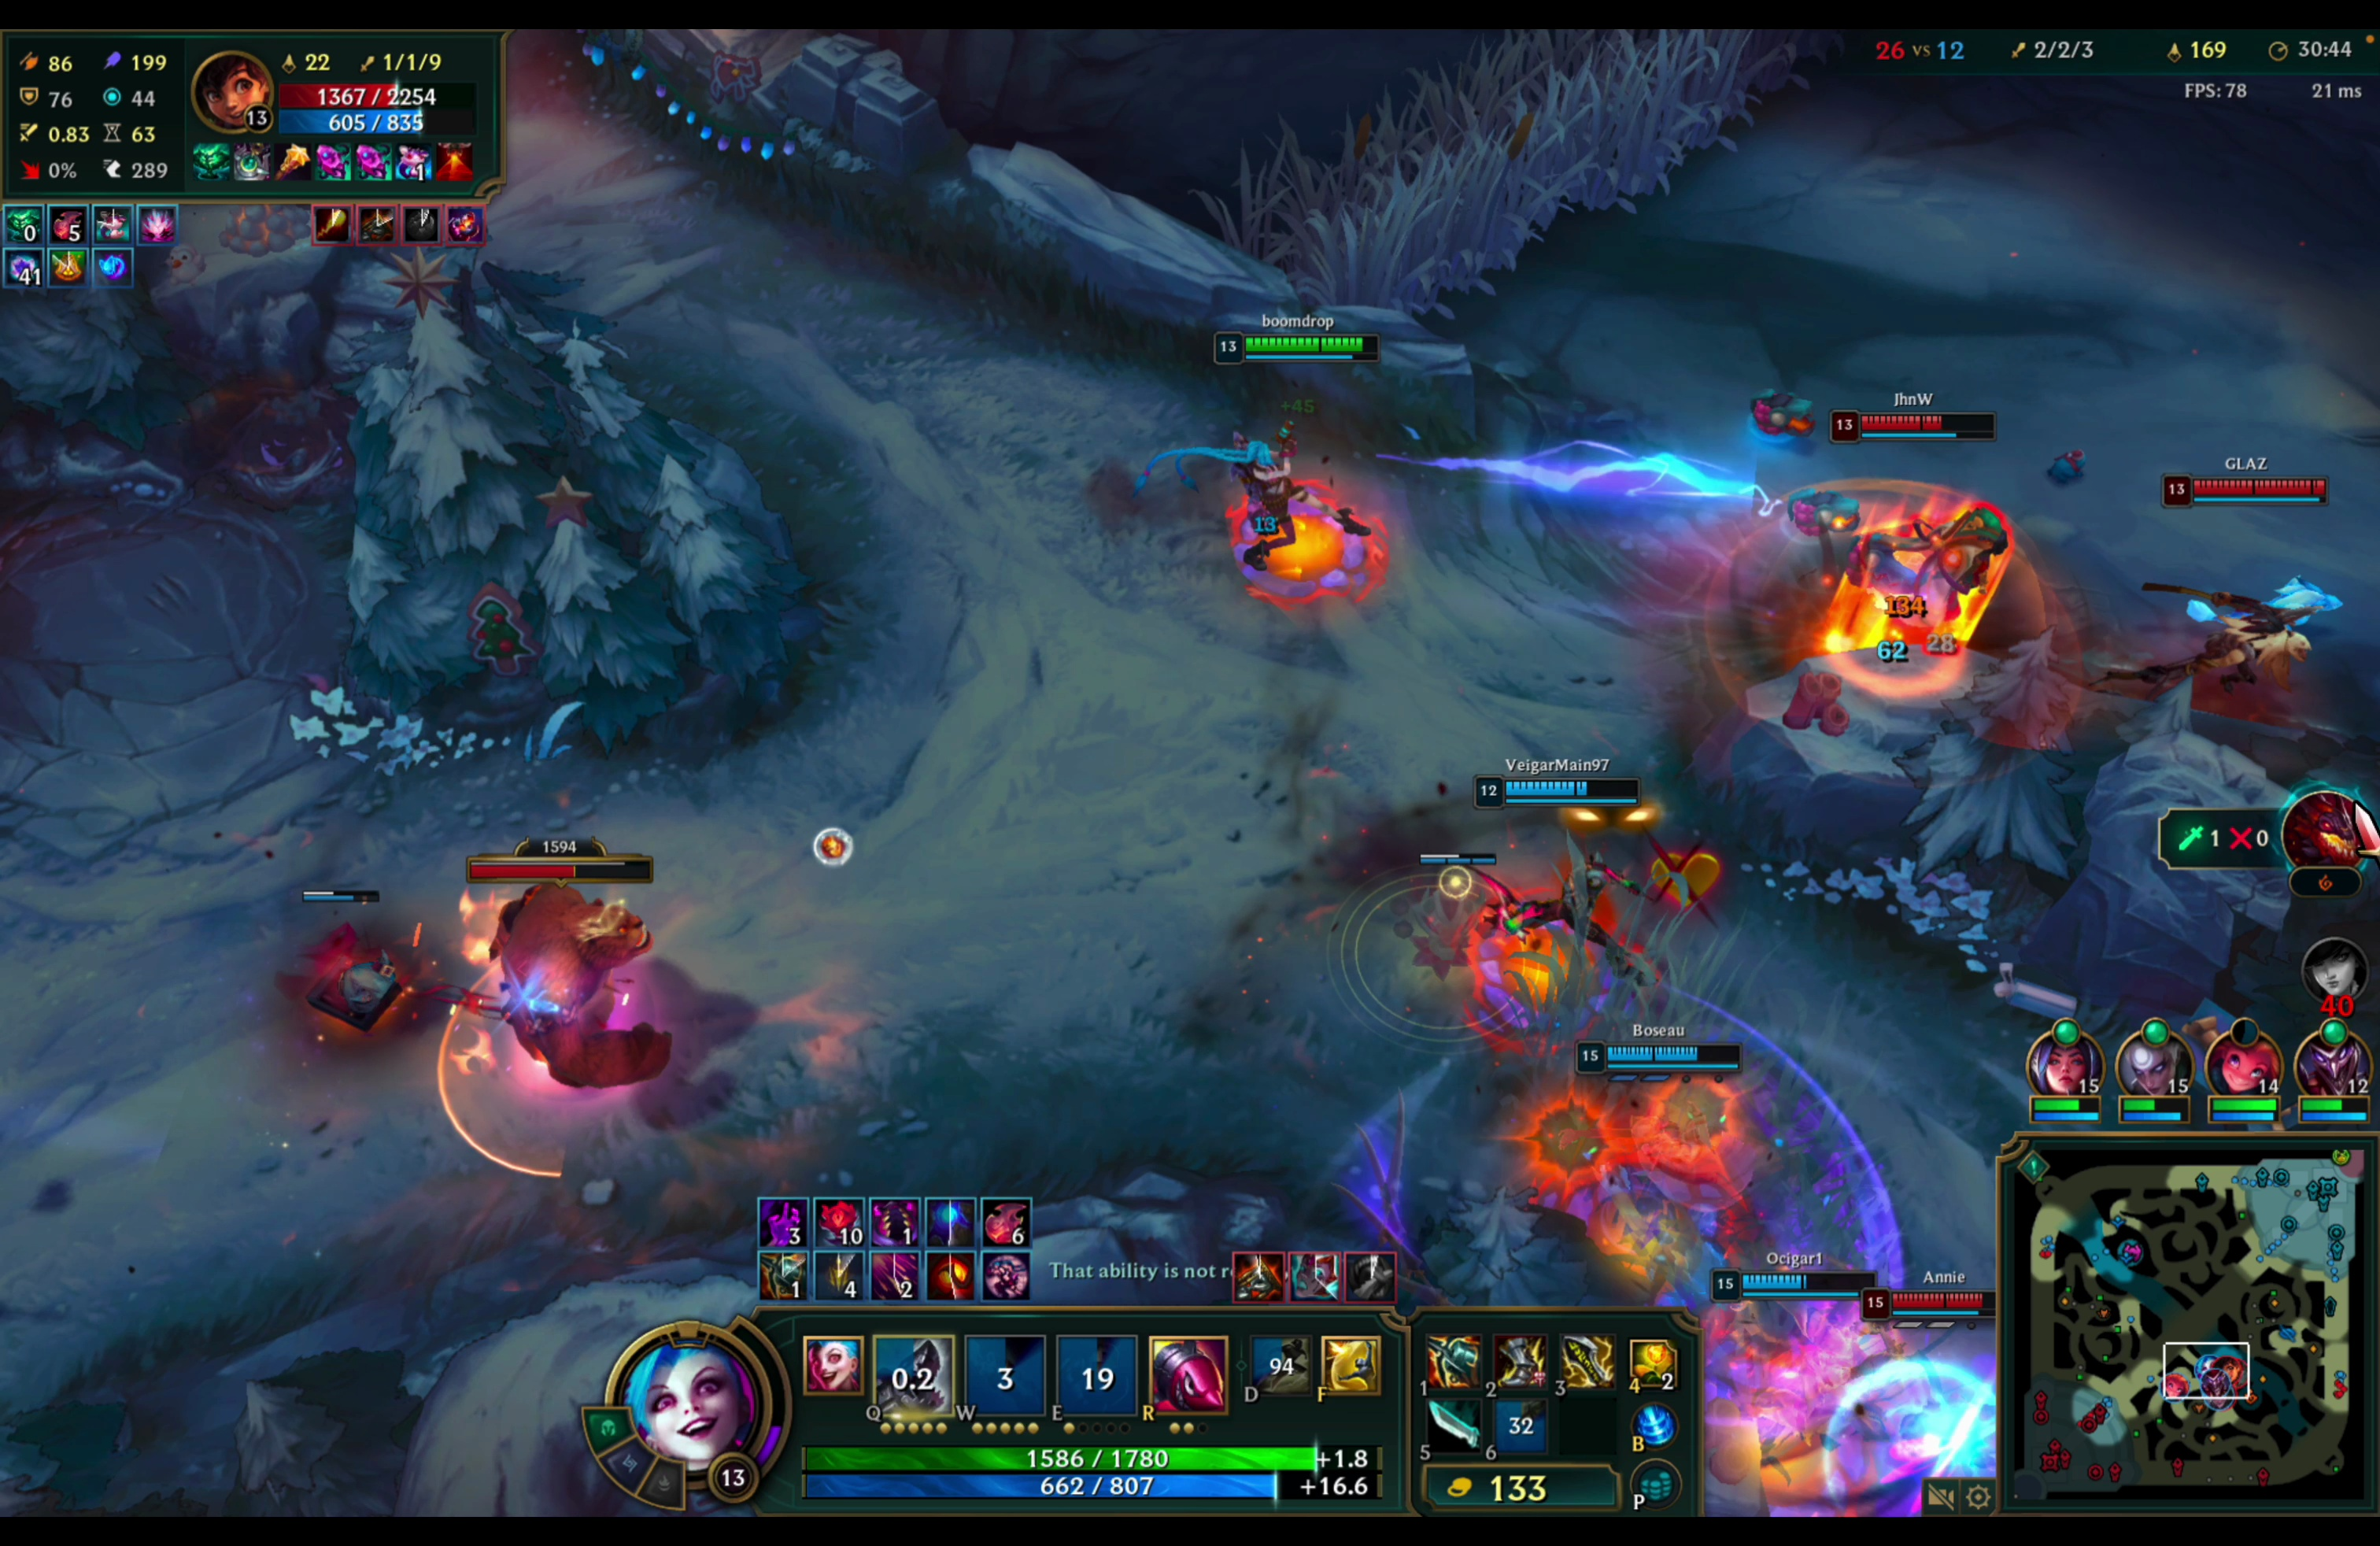JINX_W_PROJECTILE: (1202, 311, 1799, 649)
